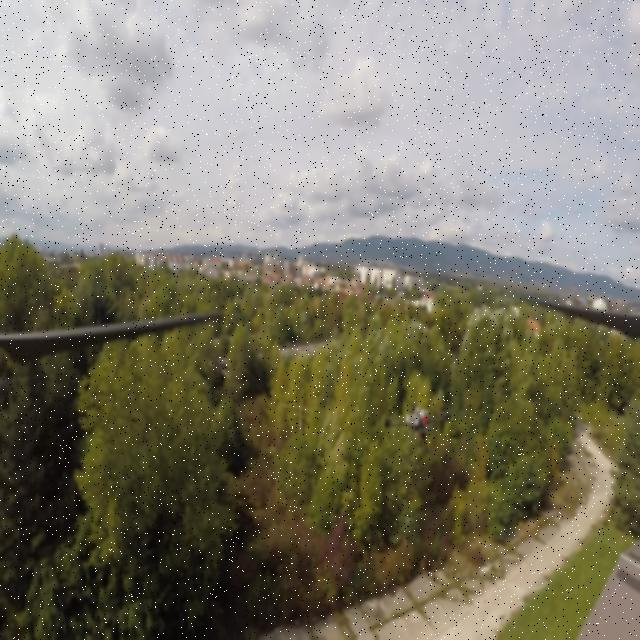UAV: (381, 398, 453, 471)
